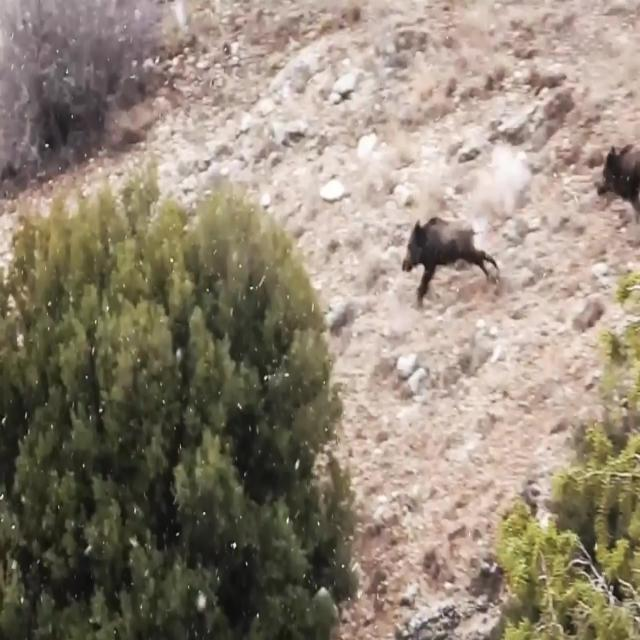pig: (397, 202, 484, 306), (583, 114, 640, 220)
